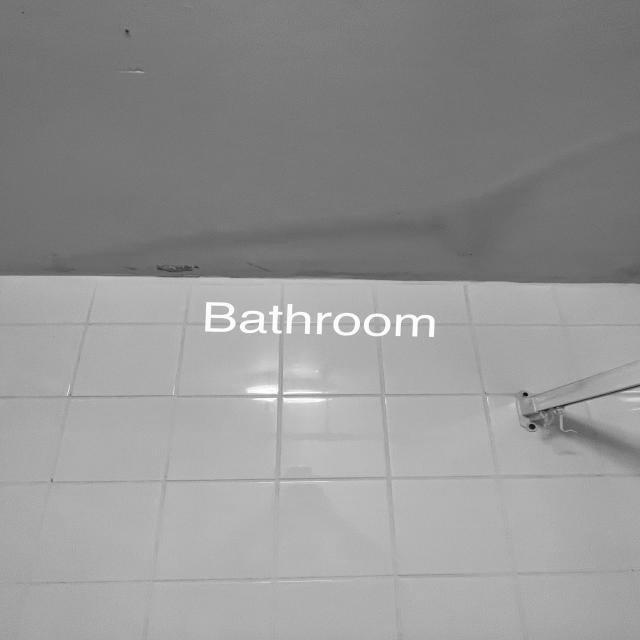stain marks: (435, 122, 640, 279), (0, 202, 434, 276)
